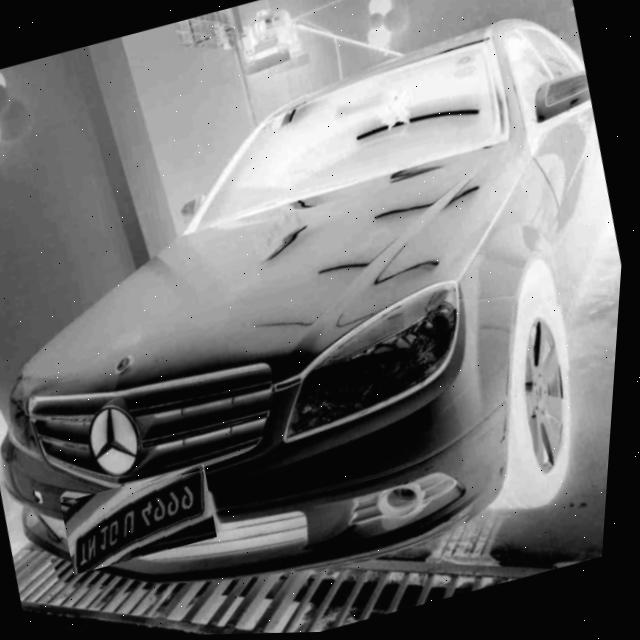Non_registered: (64, 465, 228, 575)
